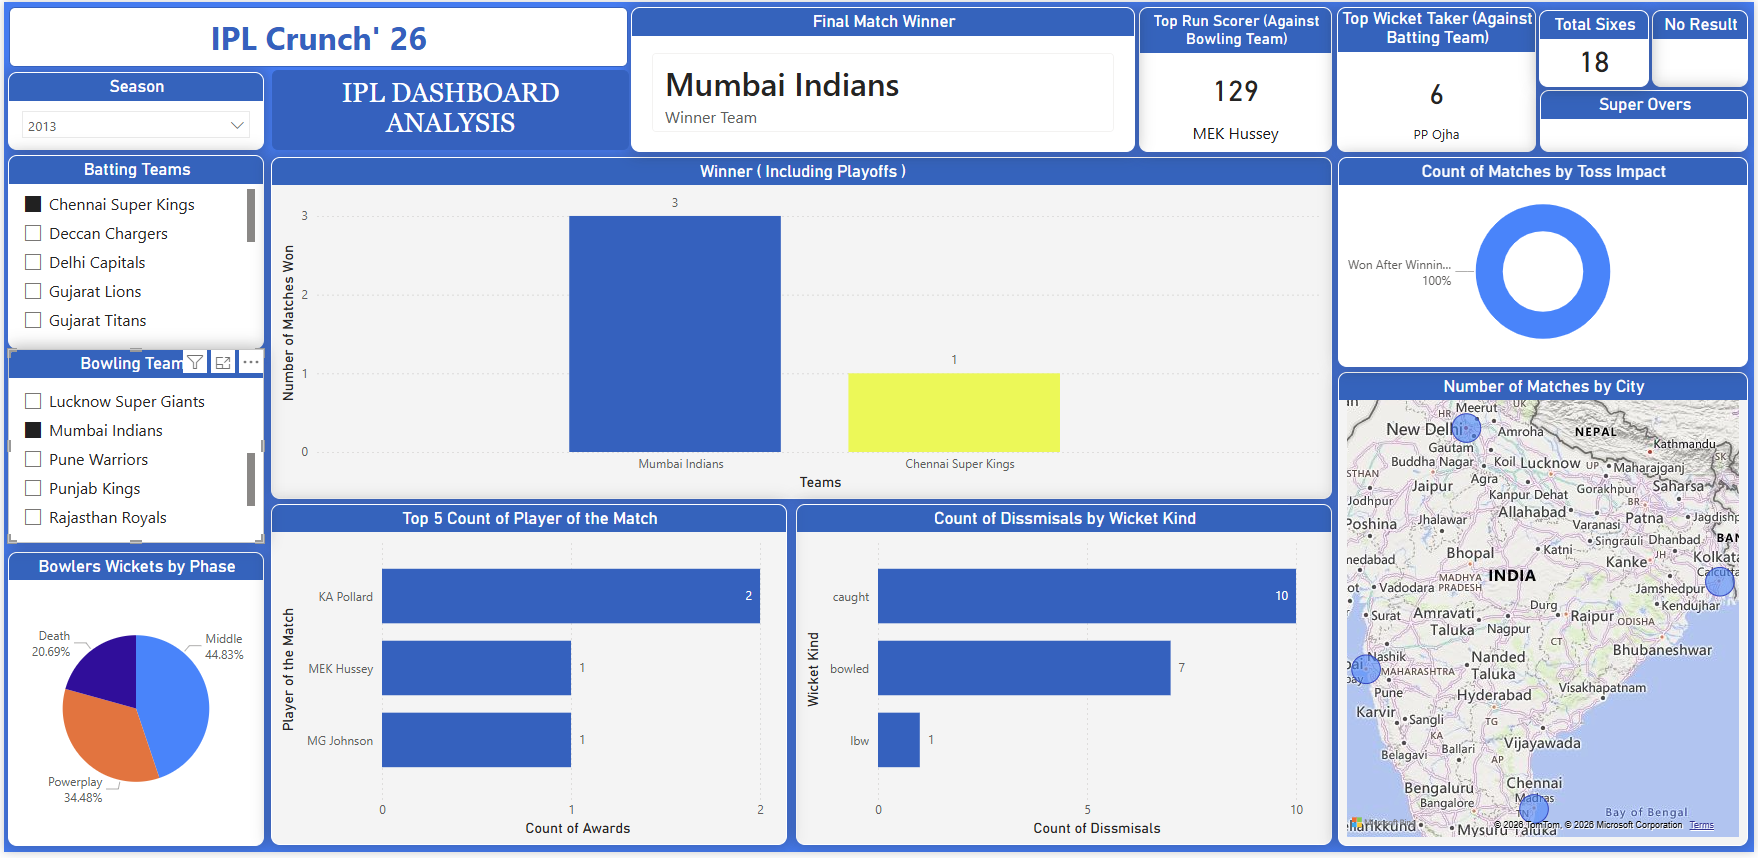

Layout of this report page (visuals, bound fields, positions):
{"tool":"powerbi","page":{"name":"Page 1","canvas":[1750,850],"ordinal":0},"visuals":[{"type":"slicer","title":"Season","fields":{"Values":["Final Matches Dates.Seasons"]},"box":[4,70,256,78],"z":0},{"type":"slicer","title":"Teams","fields":{"Values":["Venue Data.Teams"]},"box":[4,154,256,394],"z":1000},{"type":"columnChart","title":"Winner ( Including Playoffs )","fields":{"Category":["ipl_cleaned.winner"],"Y":["Count(IPL Matches.match_id)"]},"box":[266.7,155,1061.7,342],"z":2000},{"type":"kpi","title":"No Result","fields":{"TrendLine":["ipl_cleaned.winner"],"Indicator":["Count(ipl_cleaned.date (bins))"]},"box":[1648,8,96,77],"z":3000},{"type":"kpi","title":"Top Run Scorer","fields":{"Indicator":["IPL Matches.Total Runs"],"TrendLine":["IPL Matches.batter"]},"box":[1135,5,193,145],"z":4000},{"type":"kpi","title":"Top Wicket Taker","fields":{"TrendLine":["IPL Matches.bowler"]},"box":[1333,5,199,145],"z":5000},{"type":"pieChart","fields":{"Category":["ipl_cleaned.phase"],"Y":["Sum(IPL Matches.is_bowler_wicket)"]},"box":[4,556,256,288],"z":6000},{"type":"barChart","fields":{"Category":["ipl_cleaned.wicket_kind"],"Y":["Count(ipl_cleaned.wicket_player_out)"]},"box":[791.7,501.7,536.7,341.7],"z":7000},{"type":"kpi","title":"Super Overs","fields":{"Indicator":["IPL Matches.Total Super Overs"],"TrendLine":["IPL Matches.is_super_over"]},"box":[1536,88,208,62],"z":8000},{"type":"barChart","title":"Top 5 Count of Player of the Match","fields":{"Y":["Count(ipl_cleaned.date (bins))"],"Category":["ipl_cleaned.player_of_match"]},"box":[266.7,501.7,516.7,341.7],"z":9000},{"type":"map","title":"Number of Matches by City","fields":{"Category":["ipl_cleaned.city"],"Size":["Count(ipl_cleaned.date (bins))"]},"box":[1334,370,410,474],"z":10000},{"type":"cardVisual","title":"Final Match Winner","fields":{"Data":["IPL Matches.Winner_Team"]},"box":[627,5,504,145],"z":11000},{"type":"donutChart","fields":{"Category":["IPL Matches.Toss_Impact"],"Y":["Count(IPL Matches.match_id)"]},"box":[1334,155,410,210],"z":12000},{"type":"textbox","box":[5,5,619,60],"z":13000},{"type":"textbox","box":[267.5,67.5,357.5,80],"z":14000},{"type":"kpi","title":"Total Sixes","fields":{"Indicator":["IPL Matches.Total Sixes"],"TrendLine":["IPL Matches.runs_batter"]},"box":[1535,8,110,77],"z":15000}]}

Visuals, with their boxes in screenshot pixels (x1, y1, x2, y2), scaled from the page's 1750x850 canvas onto the 1758x858 screenshot:
"Season" slicer: (x1=4, y1=71, x2=261, y2=149)
"Teams" slicer: (x1=4, y1=155, x2=261, y2=553)
"Winner ( Including Playoffs )" columnChart: (x1=268, y1=156, x2=1334, y2=502)
"No Result" kpi: (x1=1656, y1=8, x2=1752, y2=86)
"Top Run Scorer" kpi: (x1=1140, y1=5, x2=1334, y2=151)
"Top Wicket Taker" kpi: (x1=1339, y1=5, x2=1539, y2=151)
pieChart - ipl_cleaned.phase x Sum(IPL Matches.is_bowler_wicket): (x1=4, y1=561, x2=261, y2=852)
barChart - ipl_cleaned.wicket_kind x Count(ipl_cleaned.wicket_player_out): (x1=795, y1=506, x2=1334, y2=851)
"Super Overs" kpi: (x1=1543, y1=89, x2=1752, y2=151)
"Top 5 Count of Player of the Match" barChart: (x1=268, y1=506, x2=787, y2=851)
"Number of Matches by City" map: (x1=1340, y1=373, x2=1752, y2=852)
"Final Match Winner" cardVisual: (x1=630, y1=5, x2=1136, y2=151)
donutChart - IPL Matches.Toss_Impact x Count(IPL Matches.match_id): (x1=1340, y1=156, x2=1752, y2=368)
textbox: (x1=5, y1=5, x2=627, y2=66)
textbox: (x1=269, y1=68, x2=628, y2=149)
"Total Sixes" kpi: (x1=1542, y1=8, x2=1653, y2=86)
